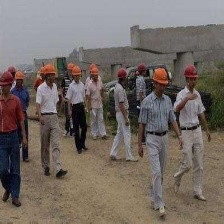helmet: (181, 63, 202, 82), (153, 68, 170, 84), (1, 72, 15, 89), (42, 65, 57, 78), (116, 67, 129, 81), (89, 66, 101, 79), (16, 69, 25, 81), (73, 66, 83, 75)
no-vest: (141, 93, 174, 134), (178, 90, 208, 130), (1, 94, 21, 134), (38, 84, 60, 119), (113, 82, 132, 113), (87, 80, 105, 111), (135, 76, 148, 109), (69, 84, 86, 108)
person: (139, 69, 174, 212), (174, 65, 208, 202), (35, 66, 71, 178), (1, 62, 26, 202), (112, 66, 137, 164), (70, 66, 90, 159), (88, 66, 110, 142)
